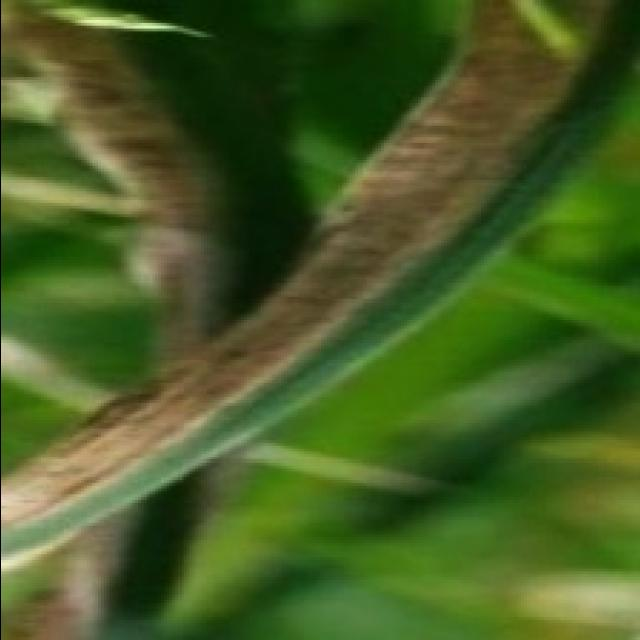Unhealthy: (0, 2, 619, 538), (0, 18, 220, 361), (11, 502, 140, 640)
